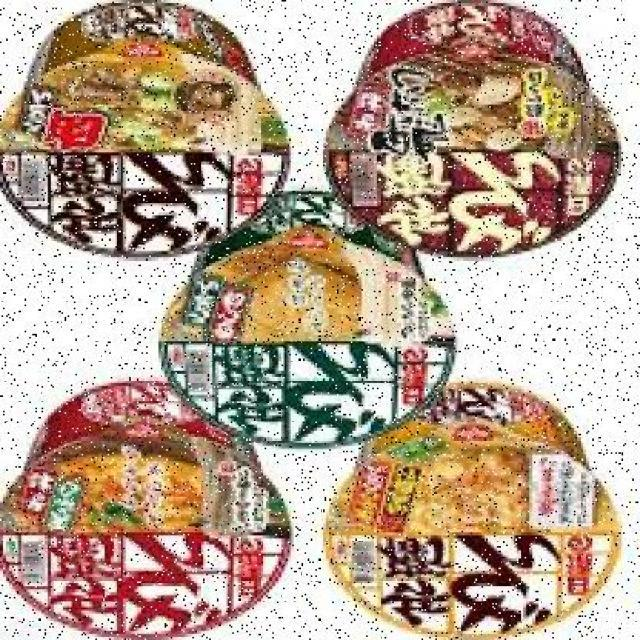Miscellaneous: (323, 377, 625, 640), (0, 380, 295, 640), (0, 6, 291, 269), (337, 0, 625, 249), (170, 200, 456, 449)
